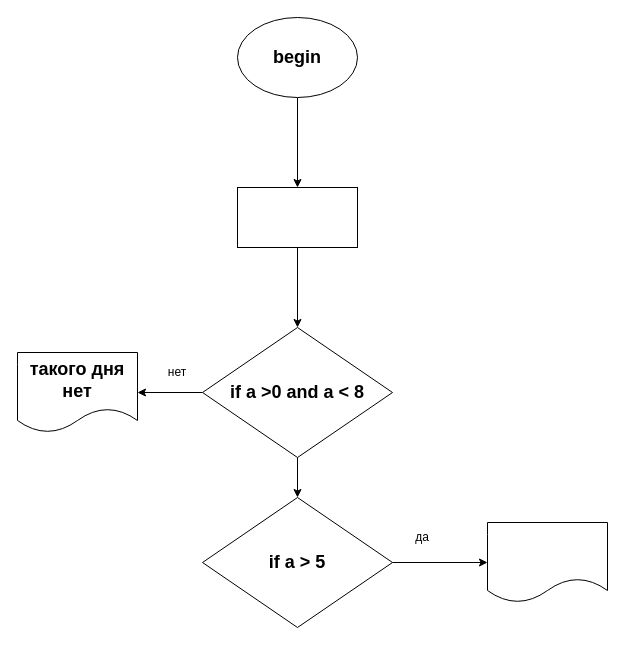
The diagram is 625 pixels wide and 645 high, and some of its shapes have lost their labels. The box of each missing label's shape, as (x1, y1, x2, y2) in pixels:
input a: (236, 186, 358, 248)
это выходной: (486, 522, 608, 602)
